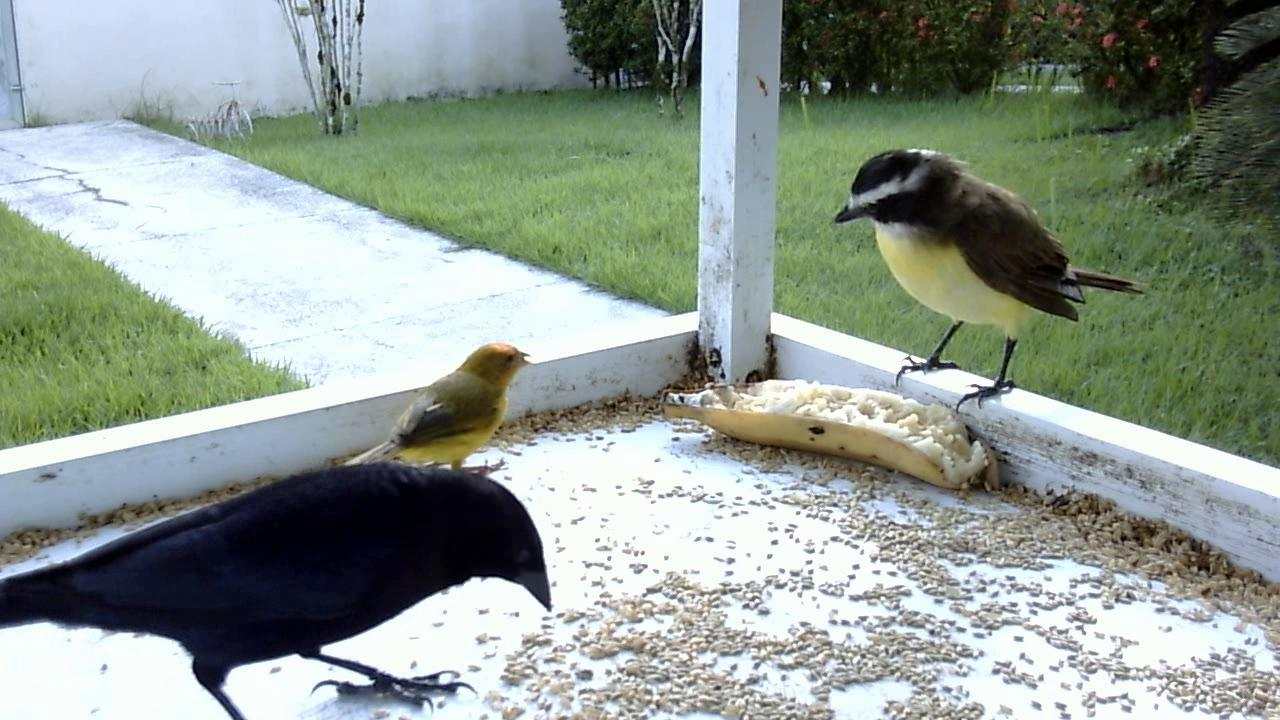bem_te_vi: (824, 135, 1149, 426)
canario_do_amazonas: (329, 337, 542, 483)
chupim: (6, 450, 546, 720)
